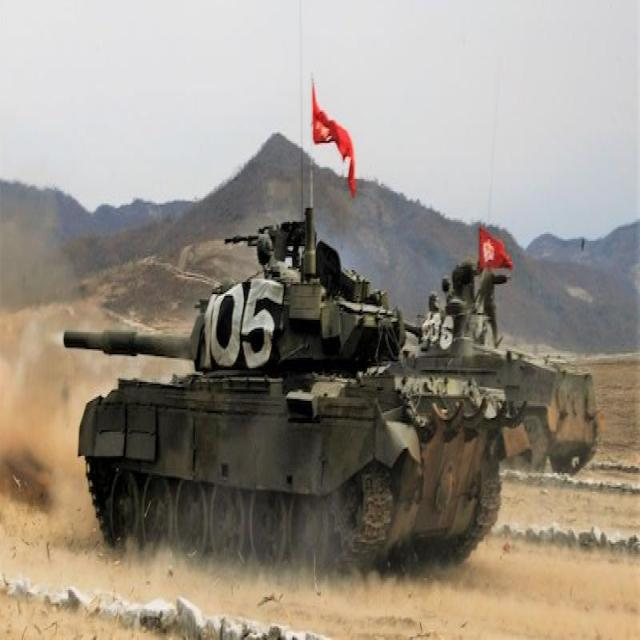north tank: (56, 191, 510, 590), (394, 237, 612, 506)
